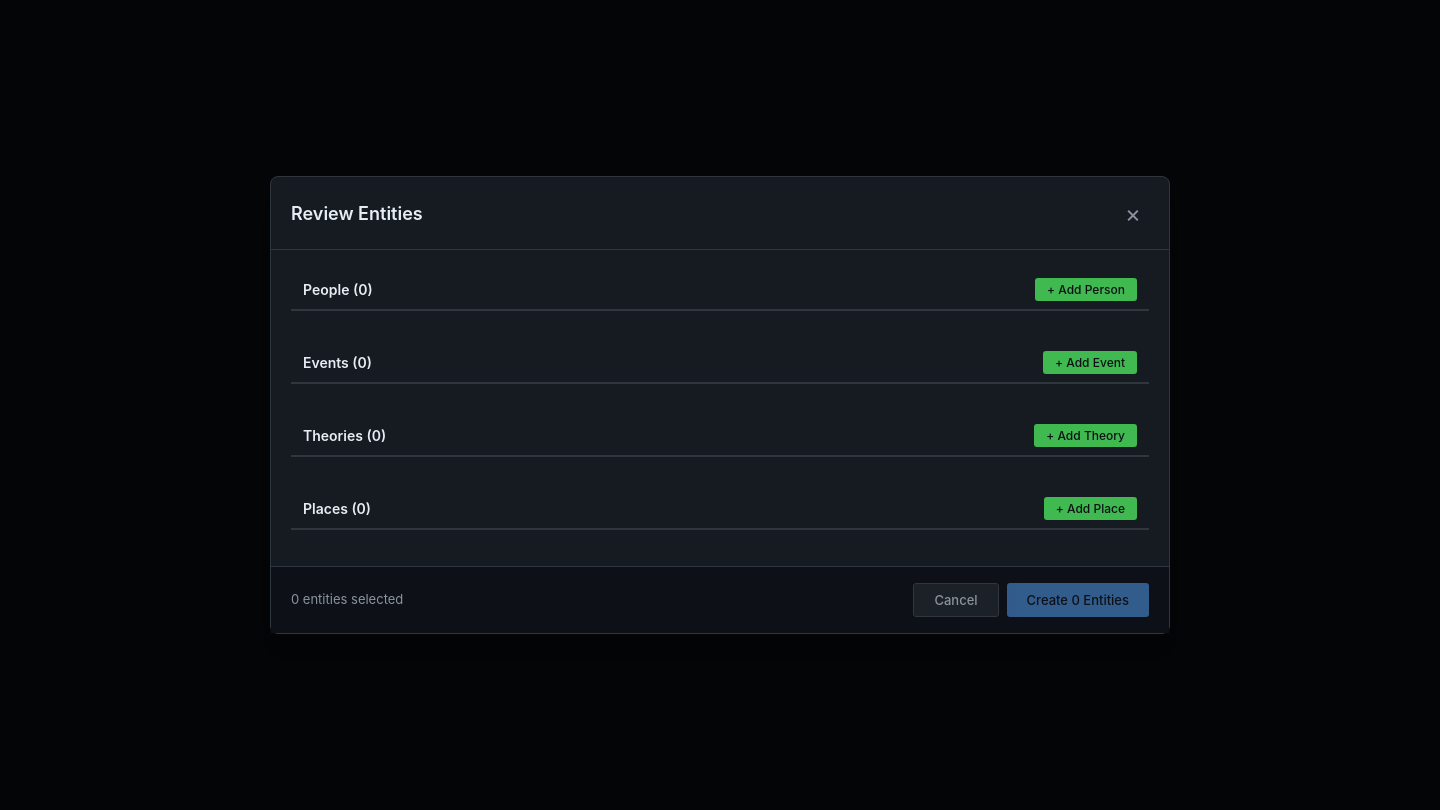
EntityReview › Adding Entities › should add a new person
Step 1. Click the button "+ Add Person" → click(1086, 290), box [1035, 278, 1137, 301]
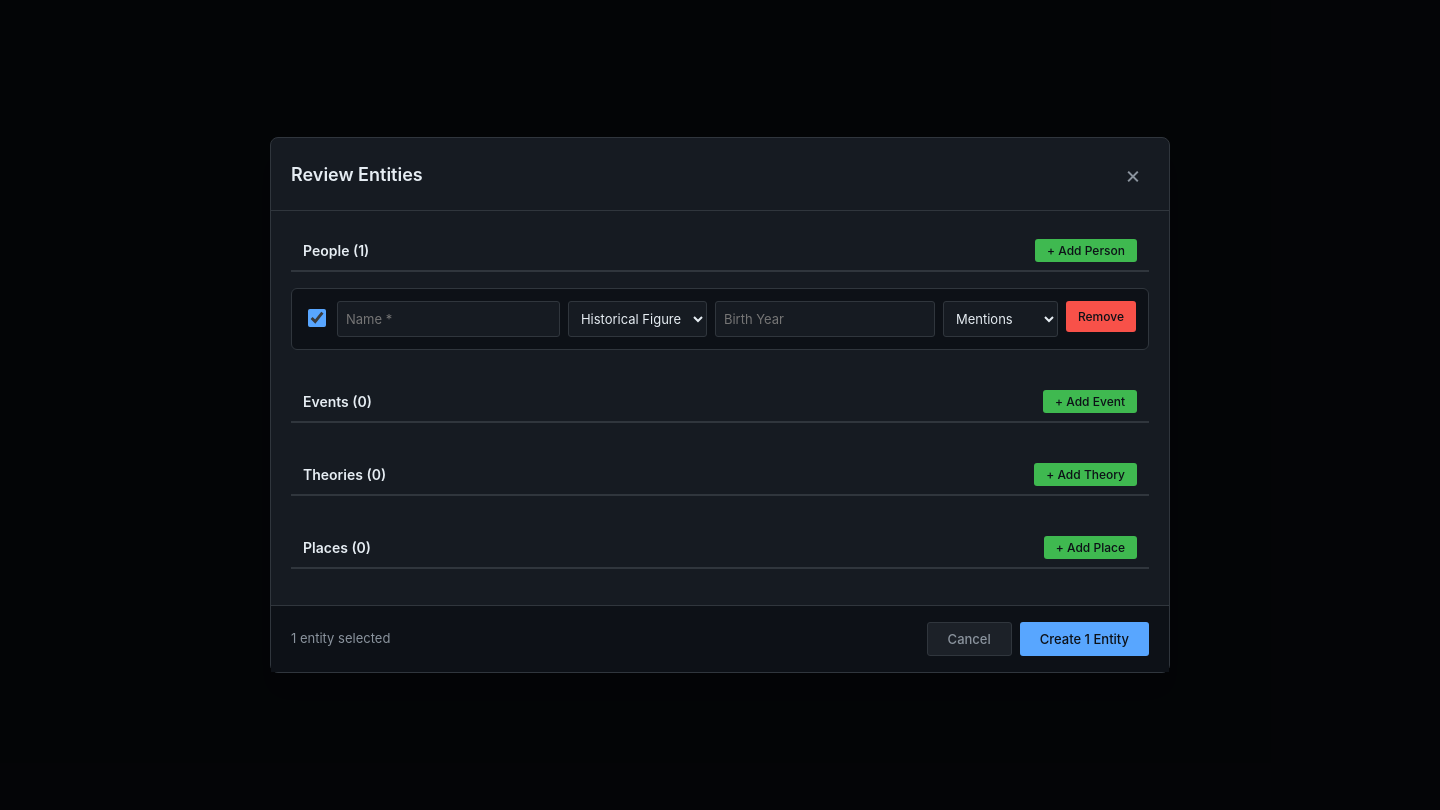
Check: the field with placeholder "Name *" is shown, box [337, 301, 560, 337]
